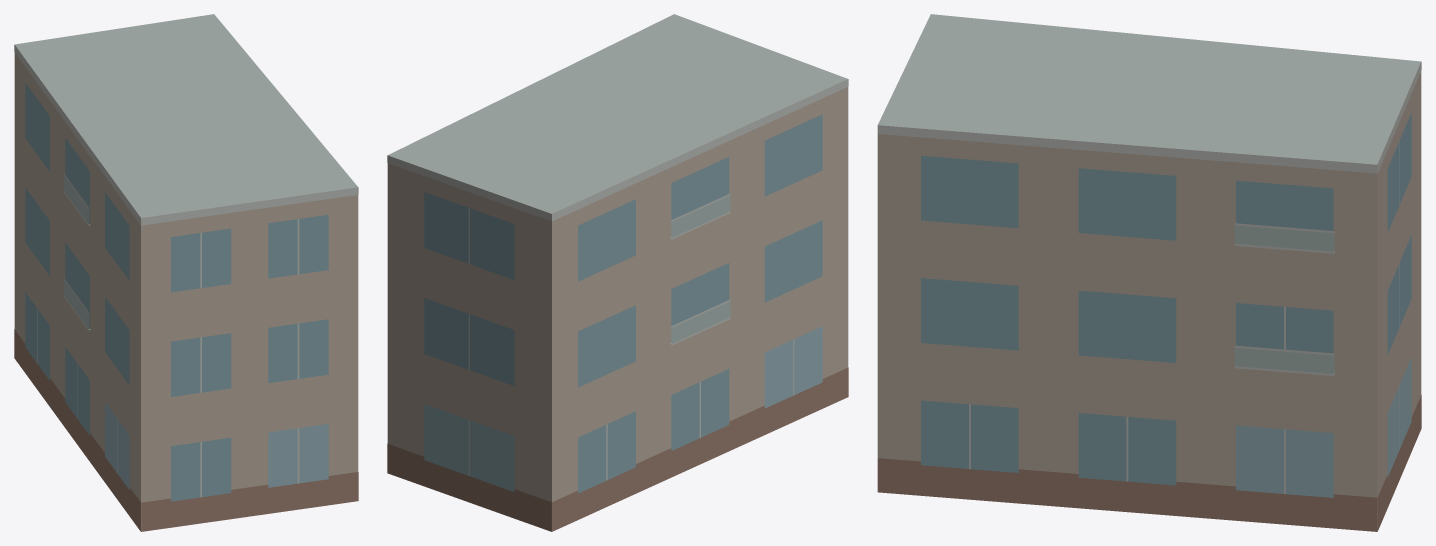
File: survey-upis-32988276.glb
The picture shows the model from 3 angles, left to right: view 1: azimuth 30°, elevation 25°; view 2: azimuth 150°, elevation 25°; view 3: azimuth 270°, elevation 25°; orthographic projection. The views are drawn at different scales.
Parts seen in each view (by area): view 1: survey-upis-32988276.tmp; view 2: survey-upis-32988276.tmp; view 3: survey-upis-32988276.tmp.
Part boxes in pixels (x1,y1,x2,y2): survey-upis-32988276.tmp: (14,14,358,531); survey-upis-32988276.tmp: (387,14,848,531); survey-upis-32988276.tmp: (877,14,1421,531).
Size of the model in its own units: 8.99 by 10.2 by 13.7.
